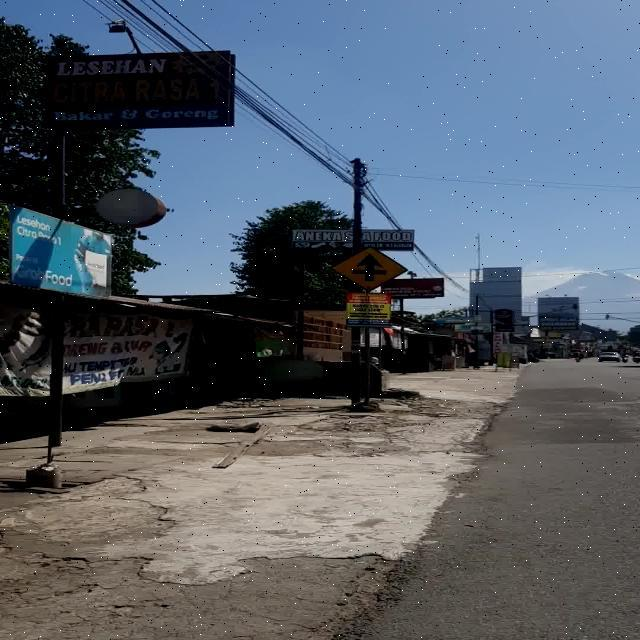Persimpangan 3 Prioritas: (328, 245, 408, 293)
